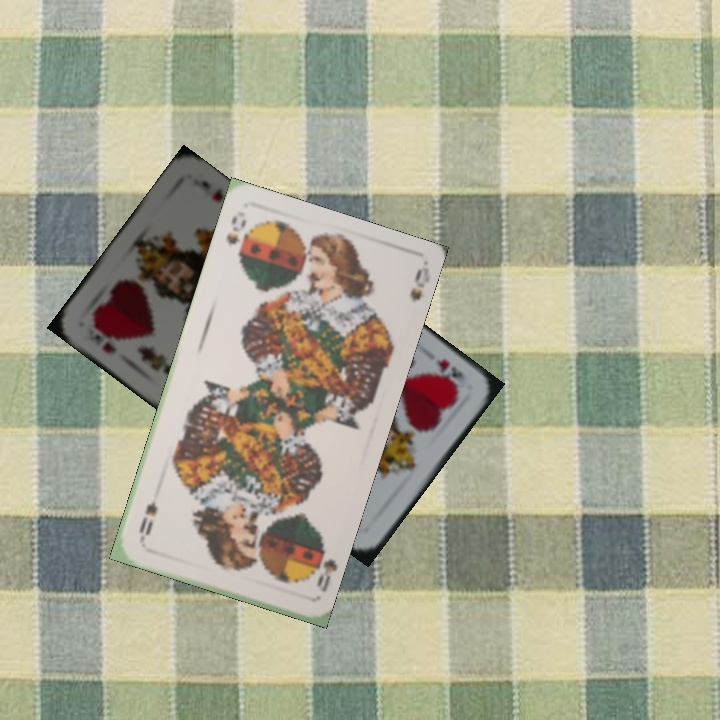HK: (429, 355, 469, 390), (89, 319, 119, 356)
SO: (307, 537, 338, 595), (222, 212, 249, 258)
